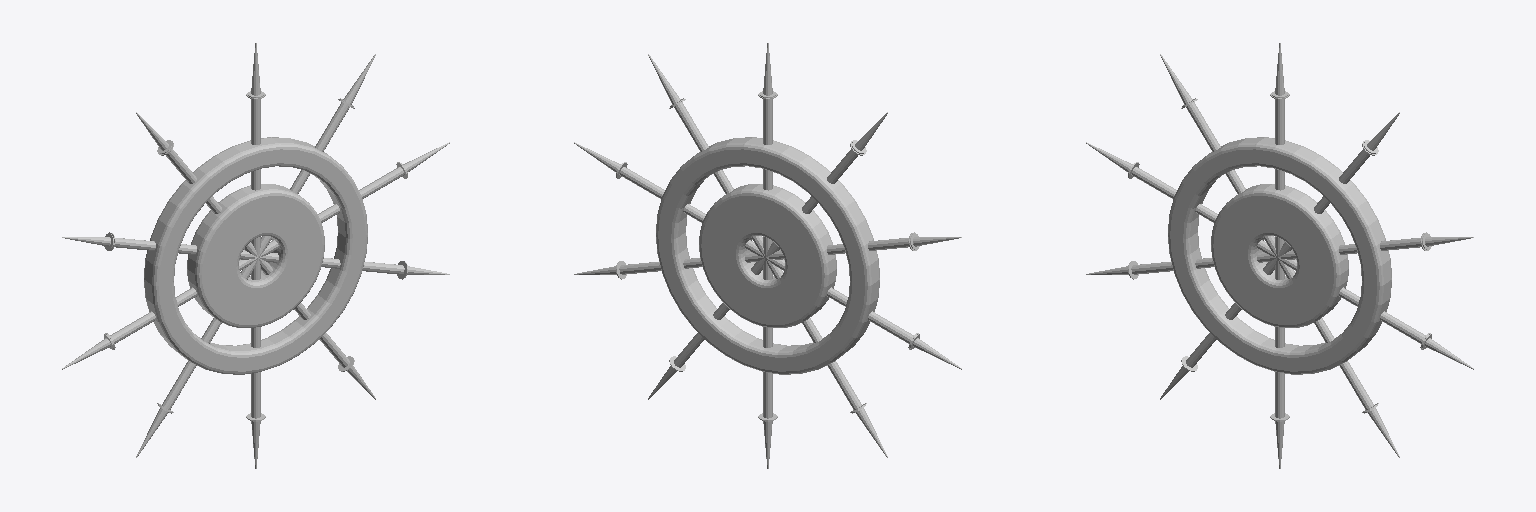
Rendered from gouver.obj.
3 views of the same model, side by side, from view 1: azimuth 30°, elevation 25°; view 2: azimuth 150°, elevation 25°; view 3: azimuth 330°, elevation 25° (orthographic).
Parts seen in each view (by area): view 1: gouvernail_Big_circle; view 2: gouvernail_Big_circle; view 3: gouvernail_Big_circle.
Part boxes in pixels (x1,y1,x2,y2): gouvernail_Big_circle: (62,43,449,468); gouvernail_Big_circle: (574,43,961,468); gouvernail_Big_circle: (1086,43,1473,468).
Size of the model in its own units: 5.9 by 6.2 by 0.3281.